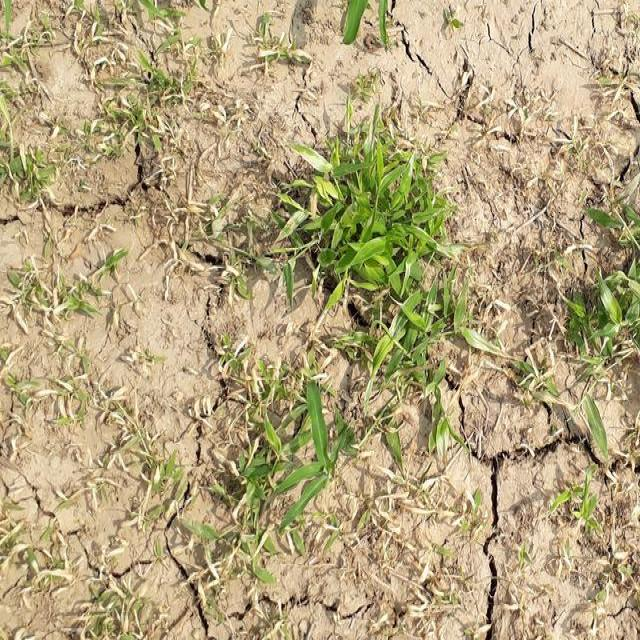weed: (261, 116, 484, 394)
